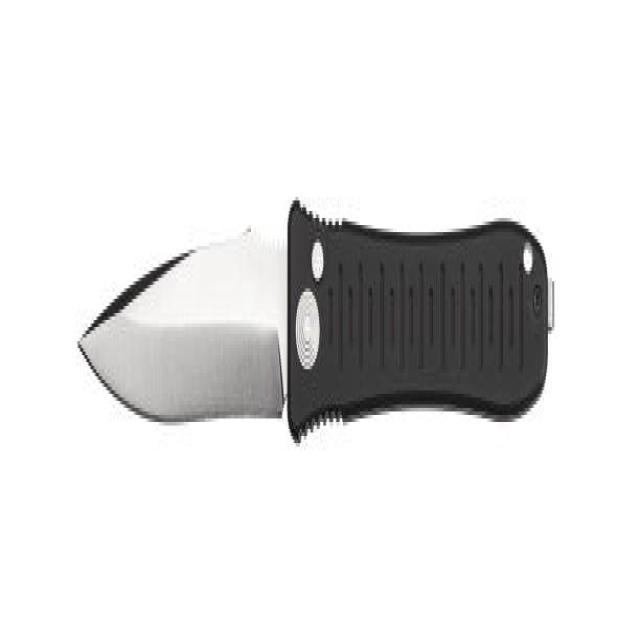knife: (77, 188, 558, 451)
